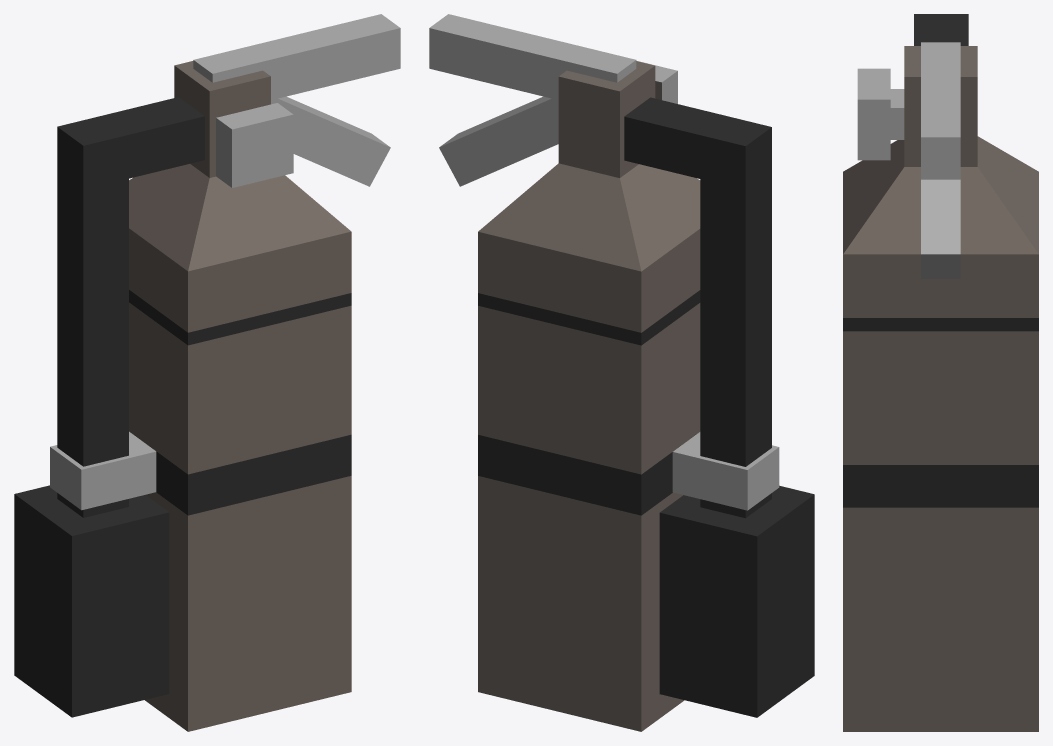
The model's file is FireExtinguisher_01.fbx.
3 views of the same model, side by side, from view 1: azimuth 30°, elevation 25°; view 2: azimuth 150°, elevation 25°; view 3: azimuth 270°, elevation 25° (orthographic). The views are drawn at different scales.
Visible parts, largest first — view 1: FireExtinguisher_01; view 2: FireExtinguisher_01; view 3: FireExtinguisher_01.
Part boxes in pixels (x1,y1,x2,y2): FireExtinguisher_01: (14,14,400,731); FireExtinguisher_01: (429,14,814,731); FireExtinguisher_01: (843,14,1038,731).
Bounding box in the file's own units: 64.09 × 108 × 30.16.
